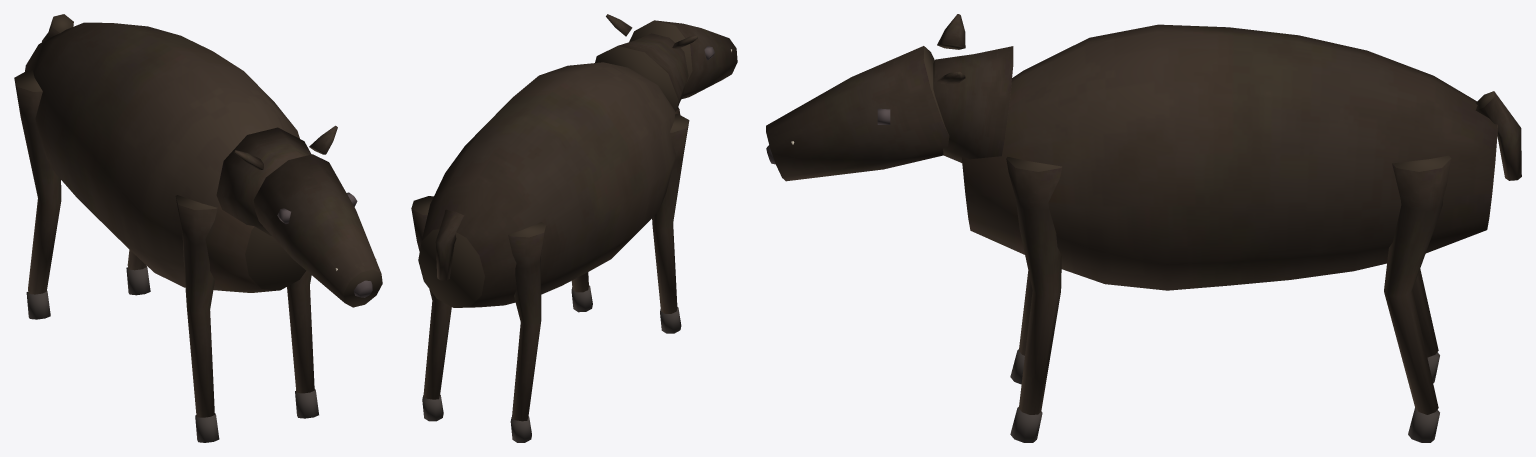
Rendered from boar.fbx.
3 renders of one model, left to right at view 1: azimuth 30°, elevation 25°; view 2: azimuth 150°, elevation 25°; view 3: azimuth 270°, elevation 25°, orthographic. The views are drawn at different scales.
Visible parts, largest first — view 1: boar__body, boar__legFR, boar__legRR, boar__legFL, boar__legRL; view 2: boar__body, boar__legRR, boar__legFR, boar__legRL, boar__legFL; view 3: boar__body, boar__legRL, boar__legFL, boar__legRR, boar__legFR.
Part boxes in pixels (<box>): boar__body: <box>25,14,382,307</box>; boar__legFR: <box>175,195,219,442</box>; boar__legRR: <box>14,70,61,319</box>; boar__legFL: <box>287,271,318,418</box>; boar__legRL: <box>126,250,150,295</box>; boar__body: <box>418,14,737,307</box>; boar__legRR: <box>508,222,546,442</box>; boar__legFR: <box>652,114,689,333</box>; boar__legRL: <box>411,196,451,421</box>; boar__legFL: <box>571,272,592,312</box>; boar__body: <box>766,14,1521,290</box>; boar__legRL: <box>1384,155,1451,442</box>; boar__legFL: <box>1006,157,1062,442</box>; boar__legRR: <box>1412,269,1439,383</box>; boar__legFR: <box>1010,271,1032,384</box>.
Size of the model in its own units: 0.551 by 0.9905 by 1.79.
Materials: 4 (1 with a texture image).
